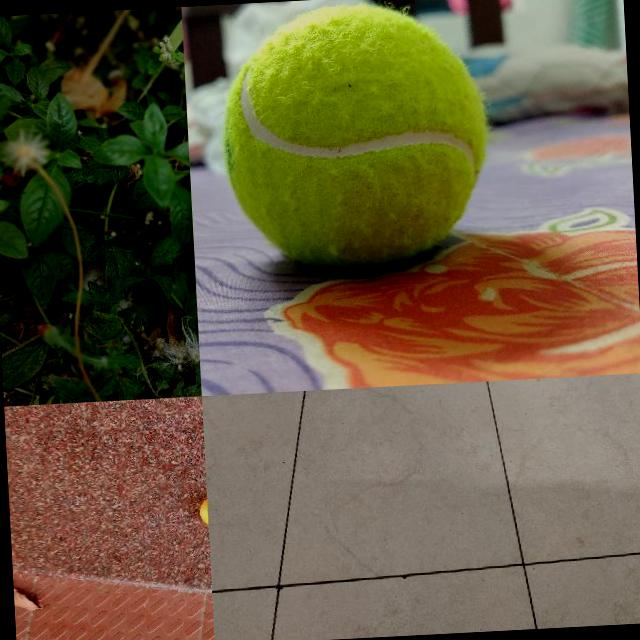tennis-ball: (216, 0, 495, 275)
